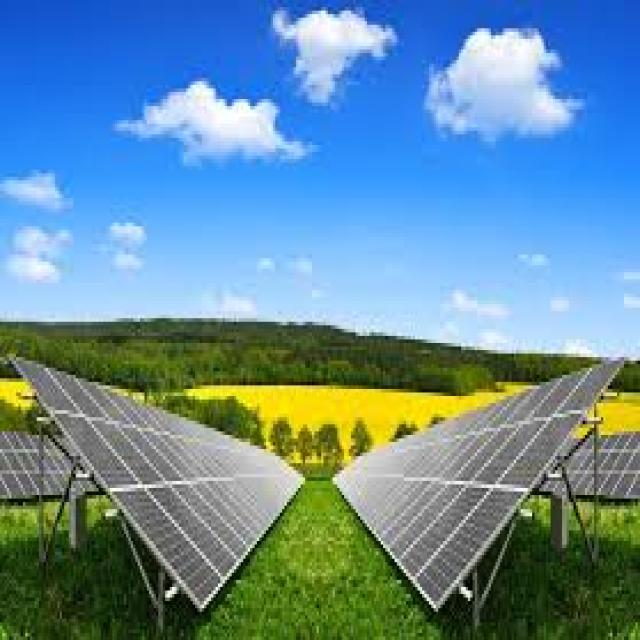clean-solar-panel: (16, 358, 303, 611), (339, 363, 619, 611)
